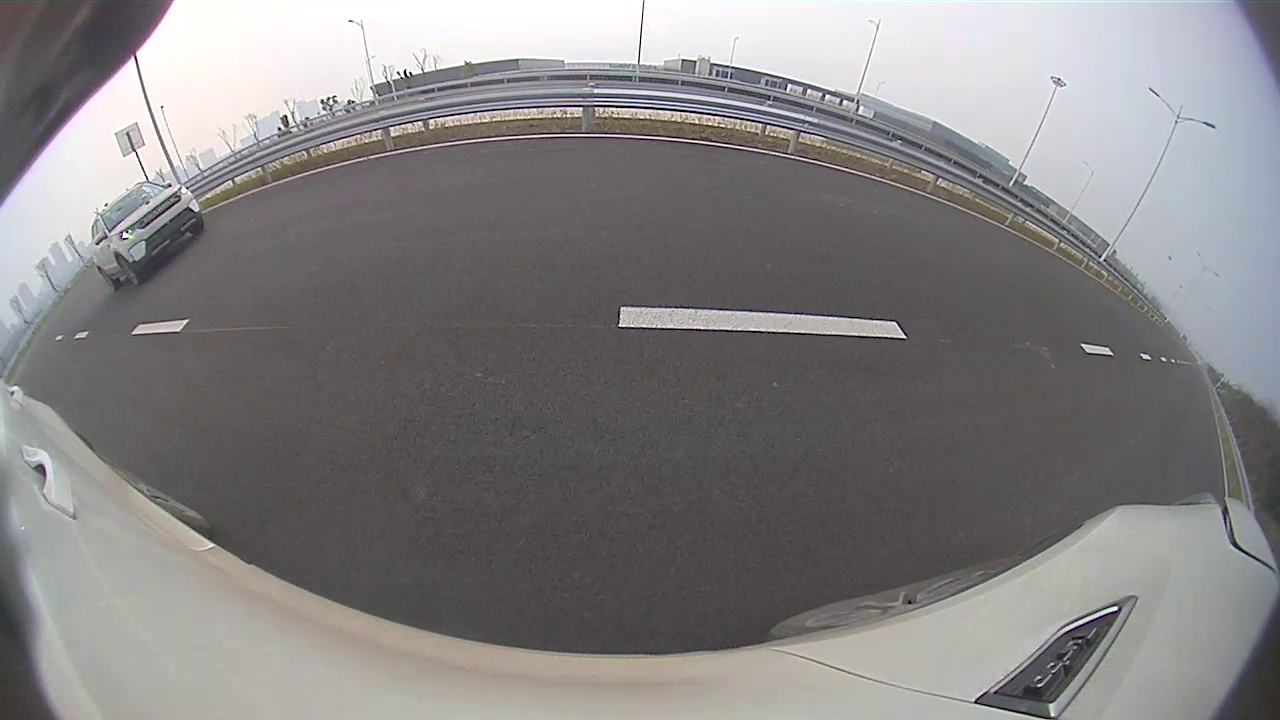car: (358, 148, 512, 244)
front: (496, 184, 512, 214)
rear: (443, 195, 468, 234)
